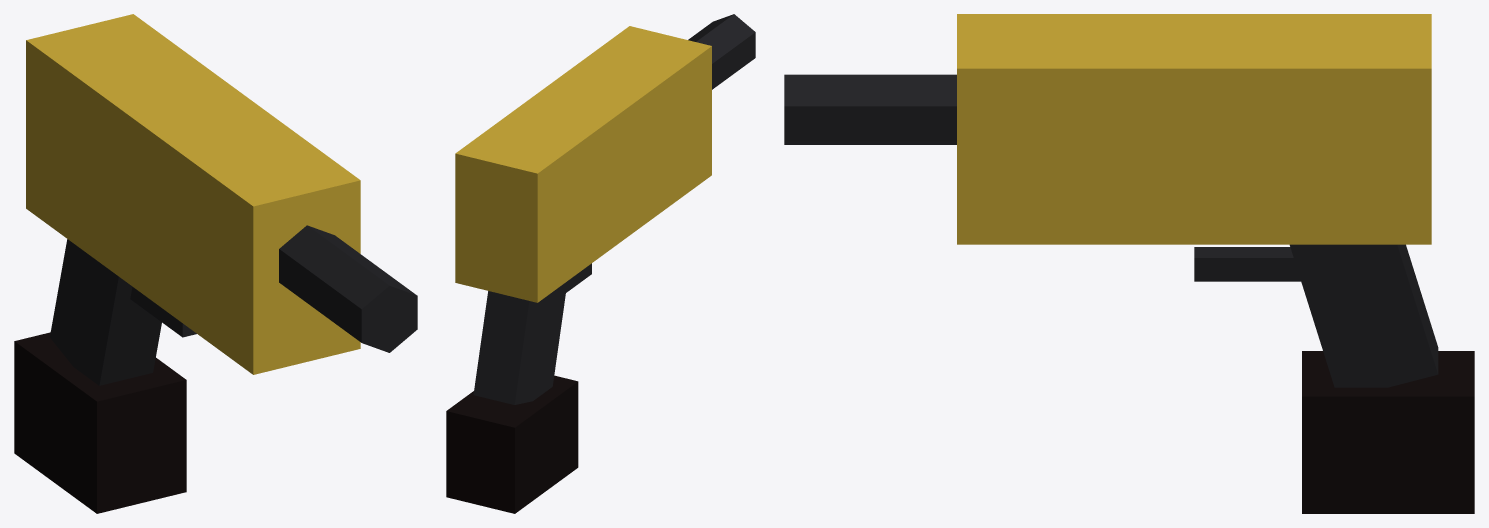
The model's file is nail_gun.glb.
3 renders of one model, left to right at view 1: azimuth 30°, elevation 25°; view 2: azimuth 150°, elevation 25°; view 3: azimuth 270°, elevation 25°, orthographic. The views are drawn at different scales.
Visible parts, largest first — view 1: nail_gun; view 2: nail_gun; view 3: nail_gun.
Boxes of the visible parts, x1,y1,x2,y2 form: nail_gun: (14, 14, 417, 513); nail_gun: (446, 14, 755, 513); nail_gun: (784, 14, 1474, 513).
Size of the model in its own units: 0.06 by 0.23 by 0.32.
